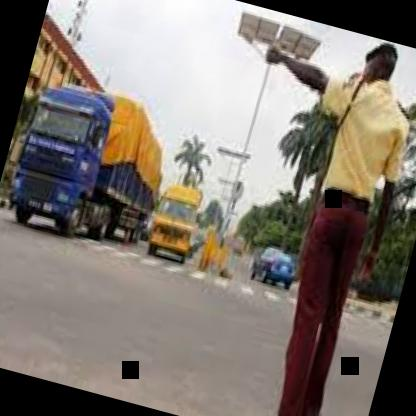car: (0, 46, 190, 291), (134, 171, 211, 284), (244, 228, 306, 310)
